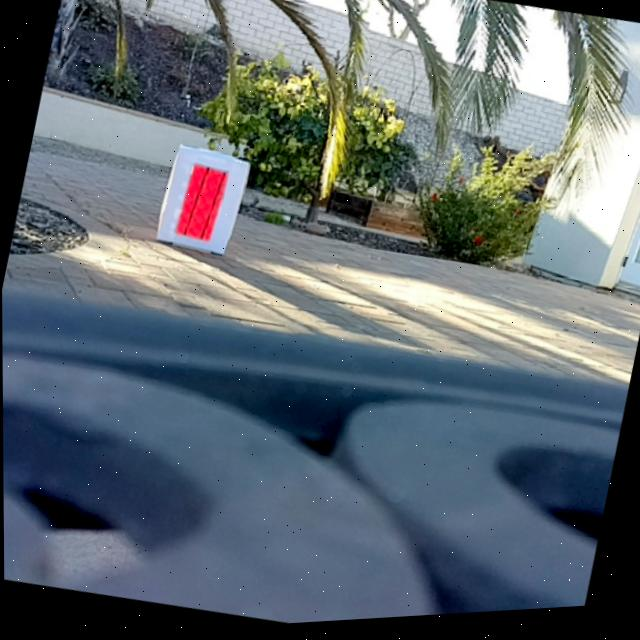led: (172, 159, 230, 249)
